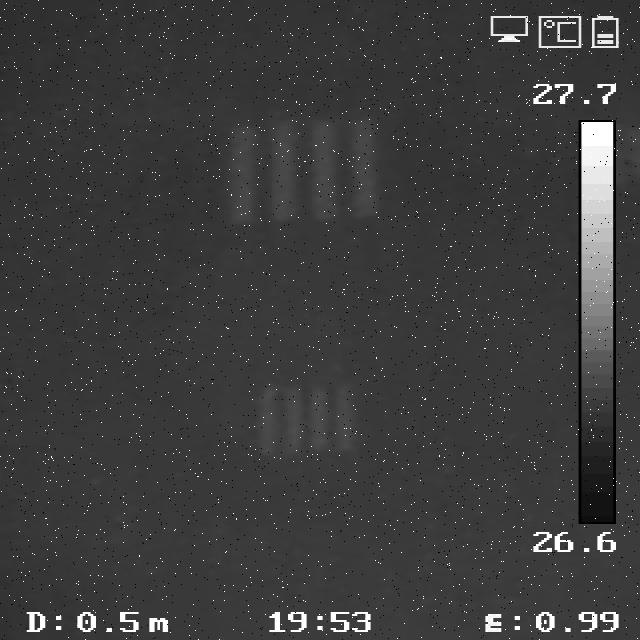threshold 4-bar target: (230, 117, 382, 225), (261, 386, 360, 456)
